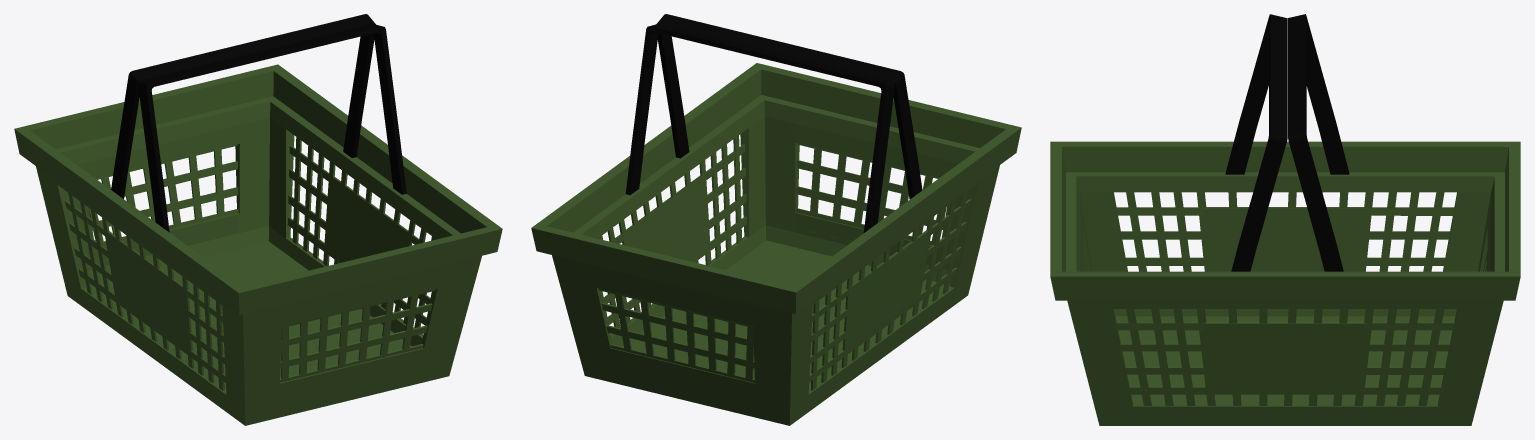
The model's file is Ma_Basket_1.fbx.
3 renders of one model, left to right at view 1: azimuth 30°, elevation 25°; view 2: azimuth 150°, elevation 25°; view 3: azimuth 270°, elevation 25°, orthographic. The views are drawn at different scales.
Parts seen in each view (by area): view 1: Ma_Basket_1; view 2: Ma_Basket_1; view 3: Ma_Basket_1.
Boxes of the visible parts, x1=… form: Ma_Basket_1: x1=14, y1=14, x2=502, y2=425; Ma_Basket_1: x1=531, y1=14, x2=1021, y2=425; Ma_Basket_1: x1=1050, y1=14, x2=1520, y2=425.
Size of the model in its own units: 332 by 490 by 345.
